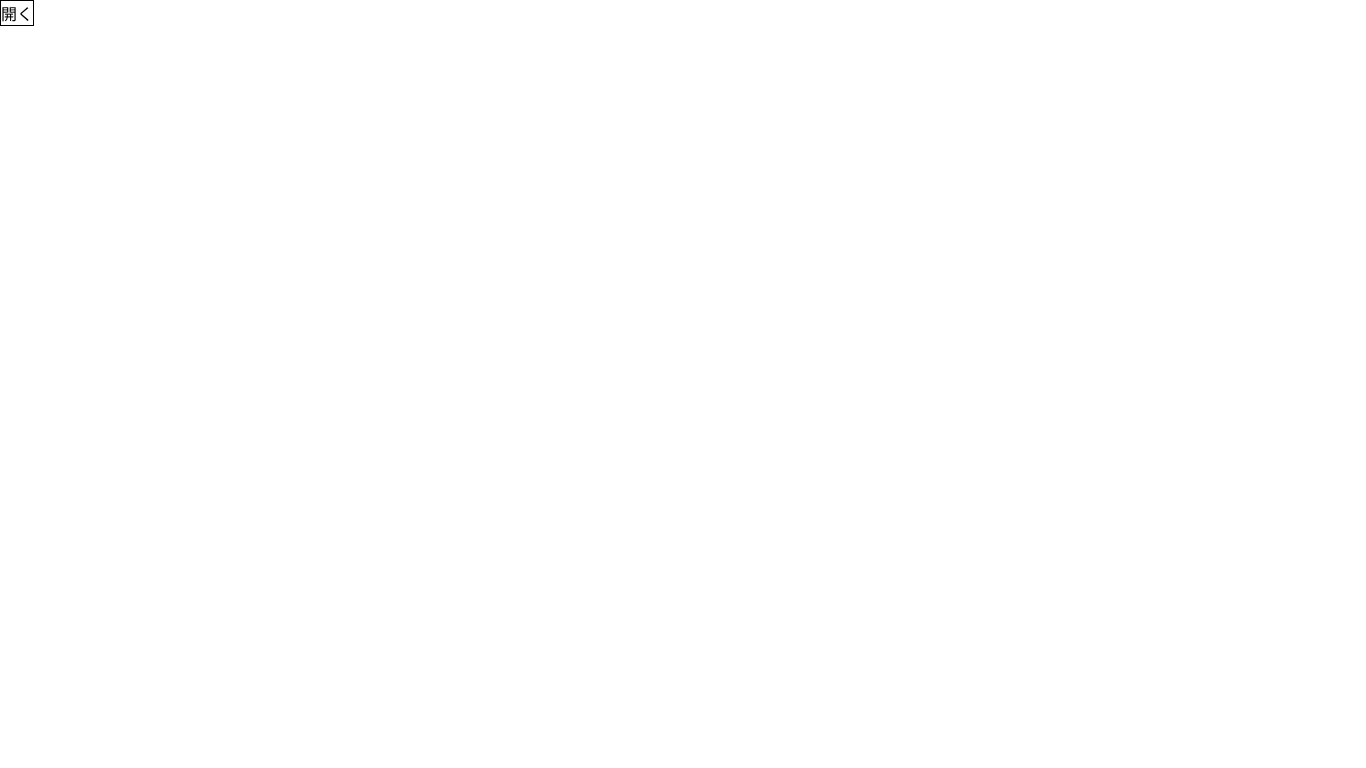
Combobox › closes only the list on Esc inside a dialog
The image size is (1366, 768).
Click the button "開く" at coordinates (17, 13), box [0,0,34,26]
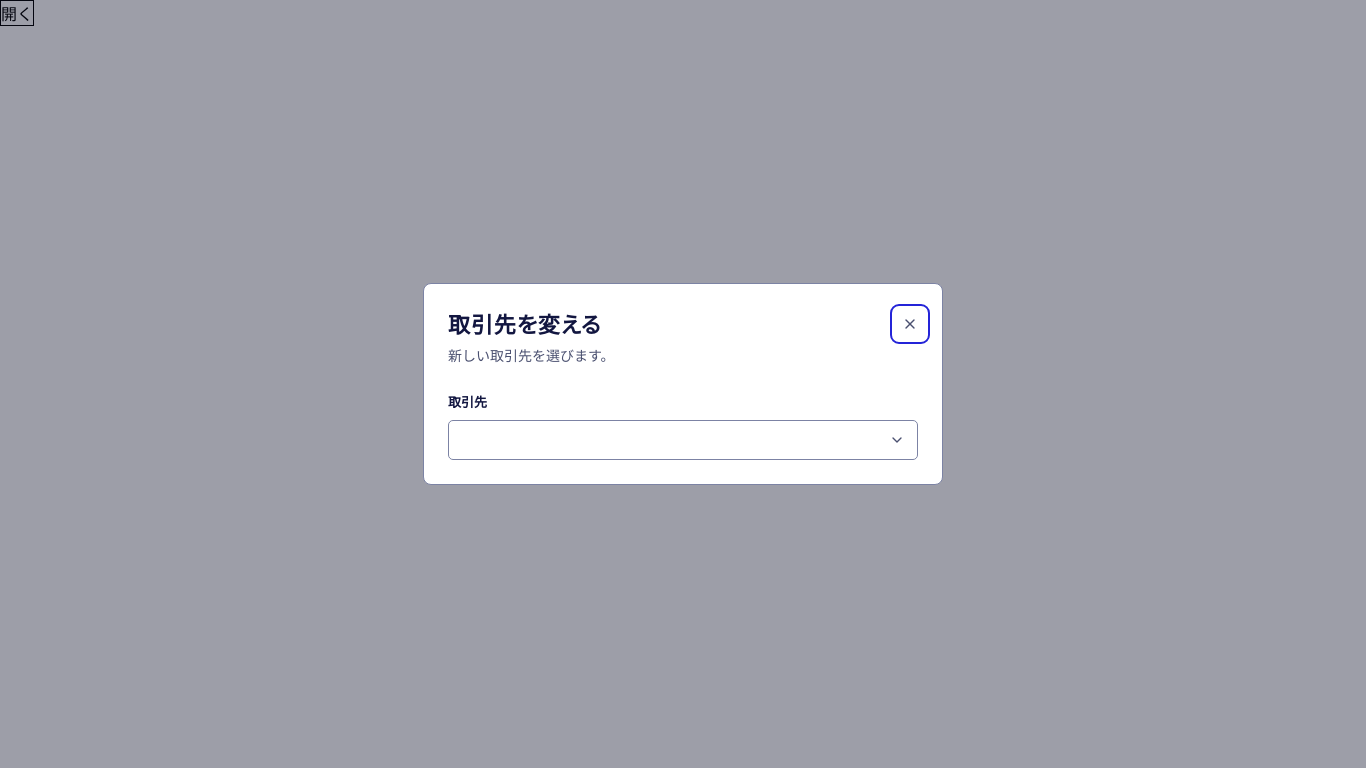
Type "お" into the dropdown at coordinates (683, 440), box [448,420,918,460]
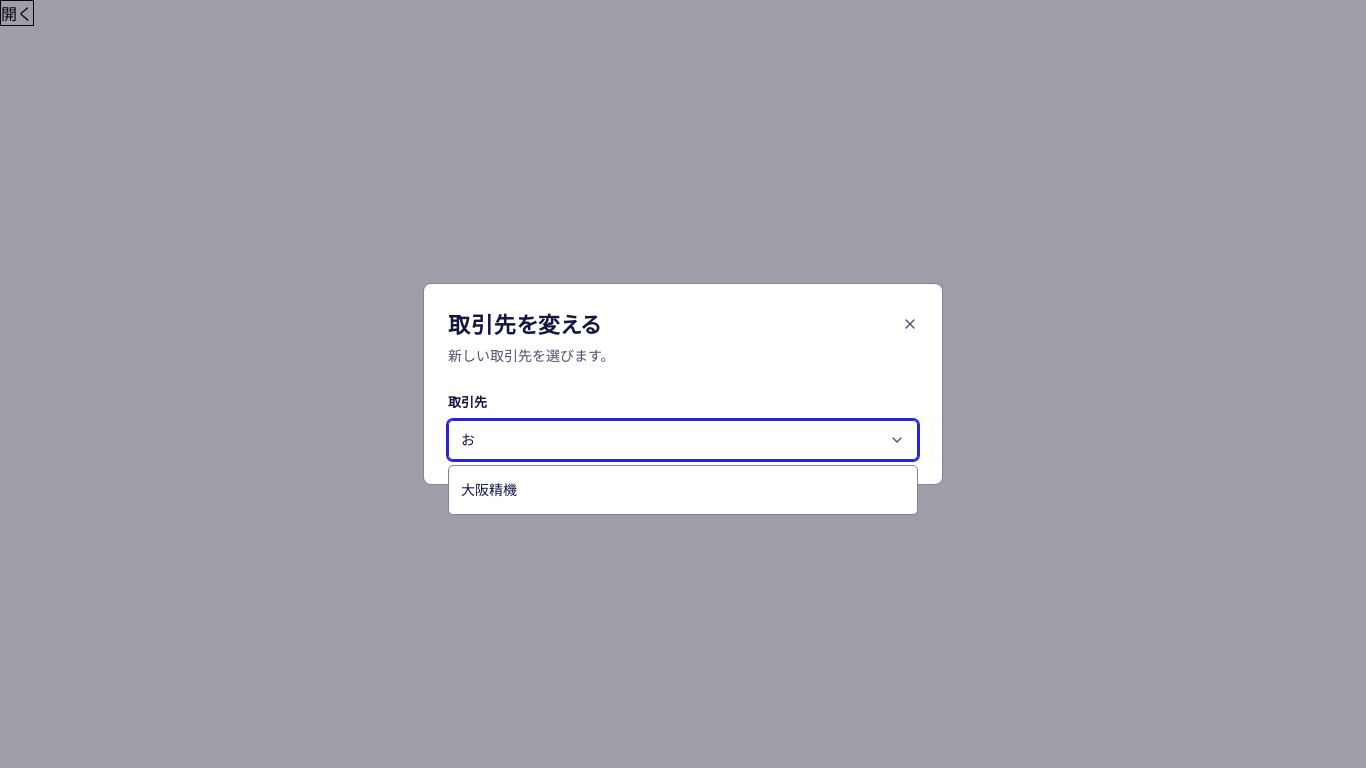
Expected: the list is shown, [461,480,517,499]
Press Escape
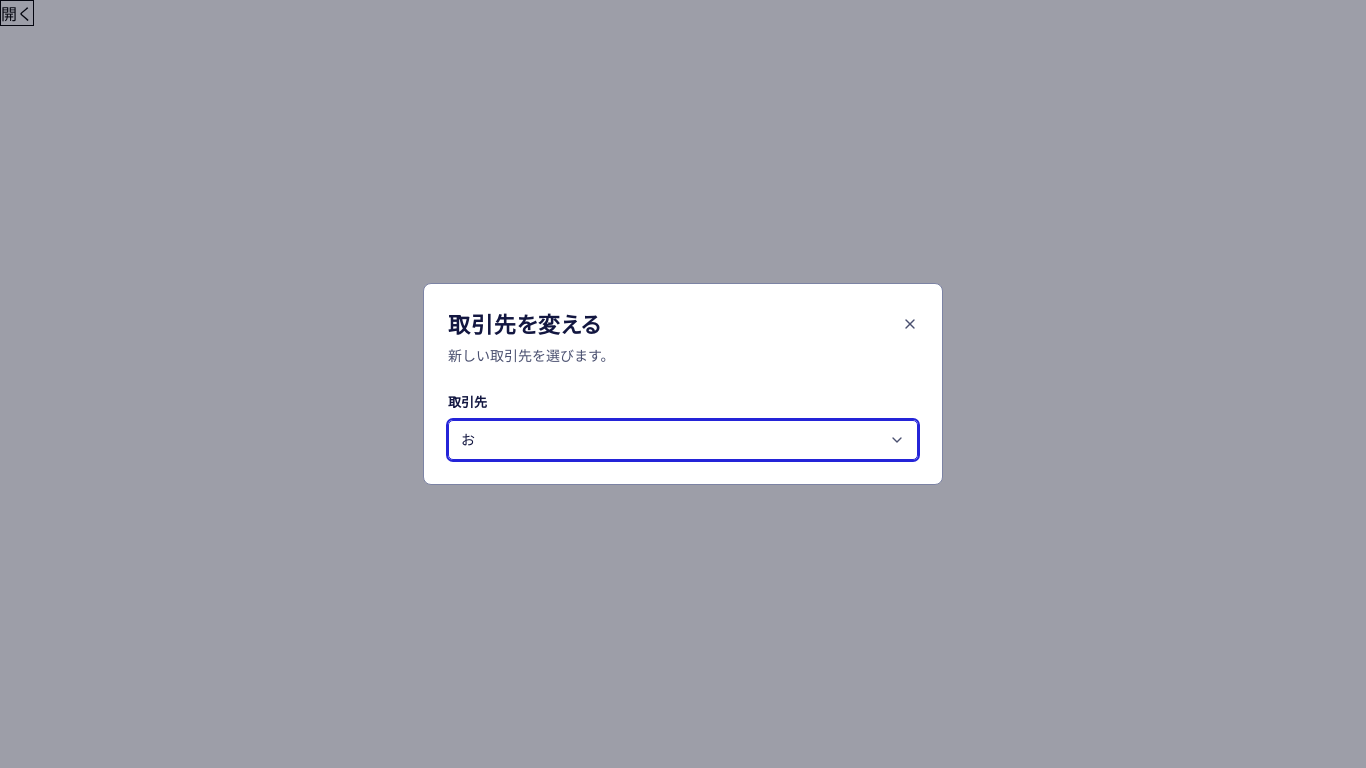
Expected: the dialog is shown, [423,283,943,485]
Expected: the list is gone
